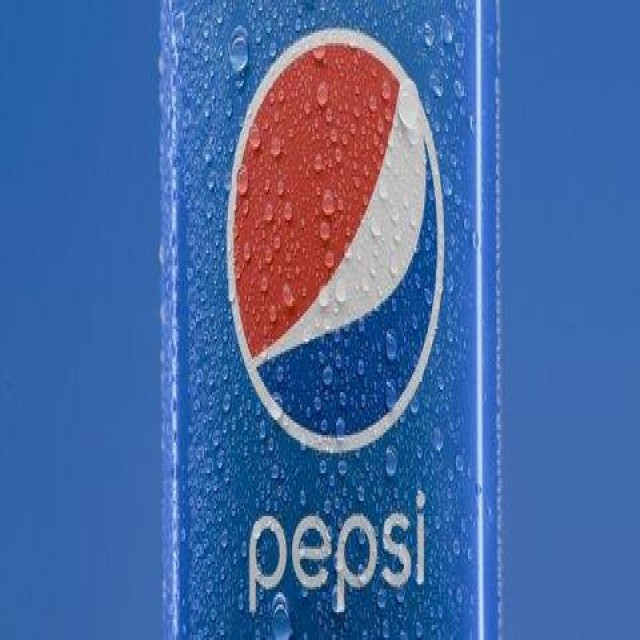pepsi: (223, 24, 450, 457)
